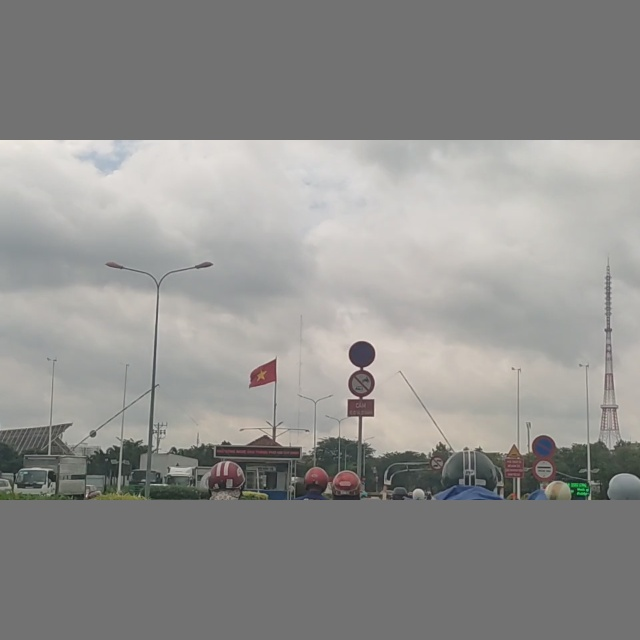P.107: (429, 456, 445, 469)
P.111: (349, 370, 375, 397)
P.129: (533, 459, 556, 480)
P.130: (349, 341, 376, 367)
P.131a: (532, 435, 556, 458)
W.221b: (506, 443, 524, 458)
